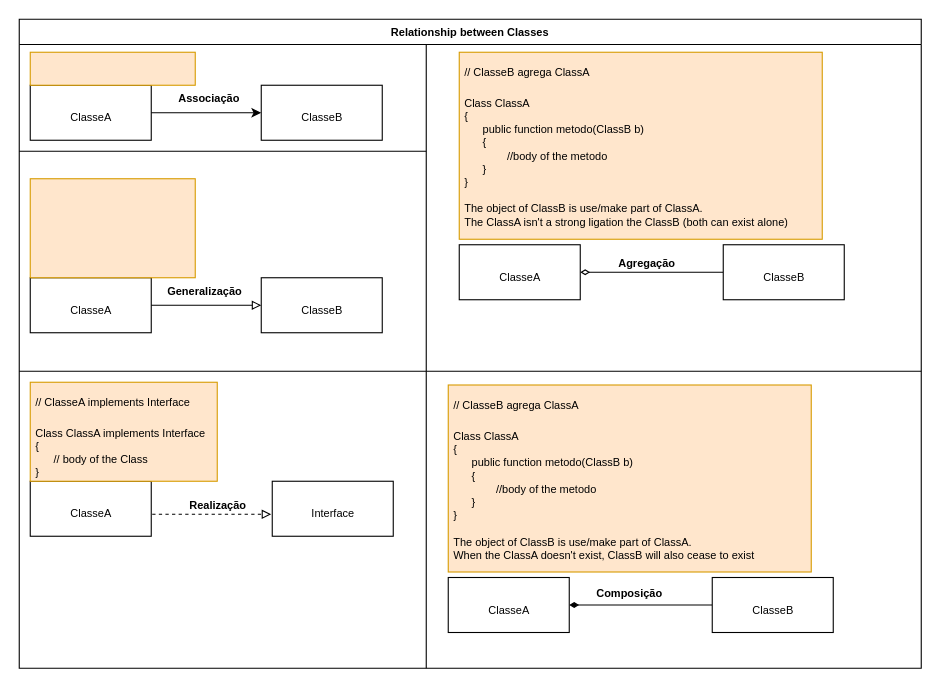
Some shapes in this 942 by 689 pixel diagram are drawn without their labels. Here are the shapes that lost their labels. From the top down, the centre of each, then its label:
(x=112, y=68): ClasseA dependes ClasseB
(x=112, y=228): // ClasseA herda ClasseB Class ClassA extends ClassB { // body of the Class }
